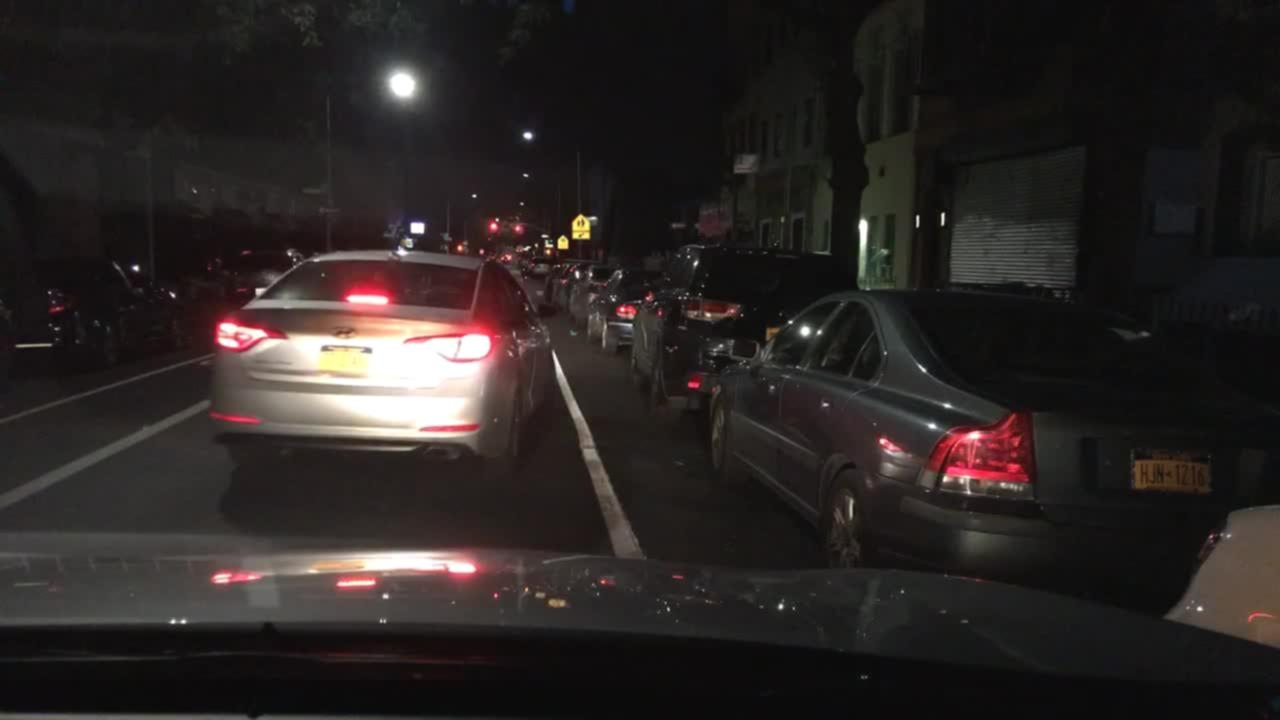Hyundai: (319, 317, 362, 348)
